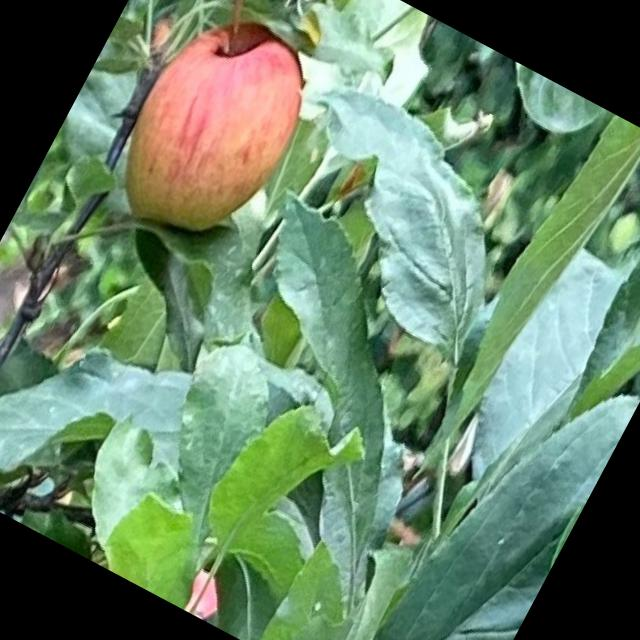Apples: (97, 0, 328, 258)
